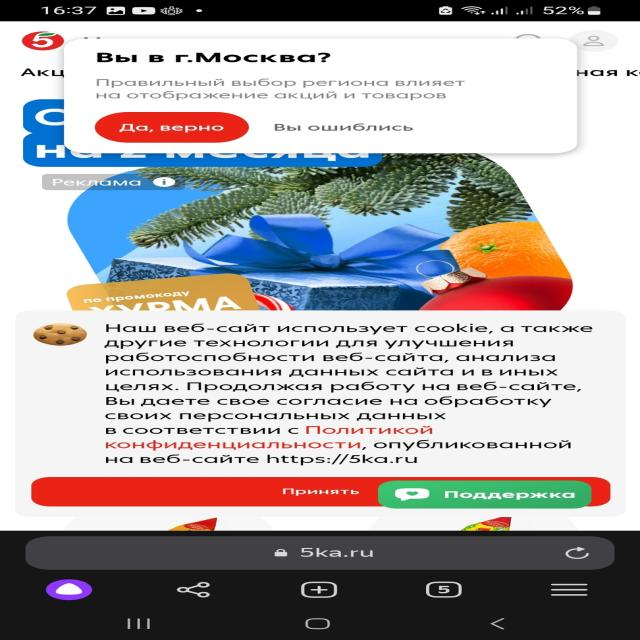button: (31, 478, 611, 506), (97, 113, 250, 142), (262, 113, 422, 140)
site: (13, 311, 623, 517), (66, 40, 575, 151)
